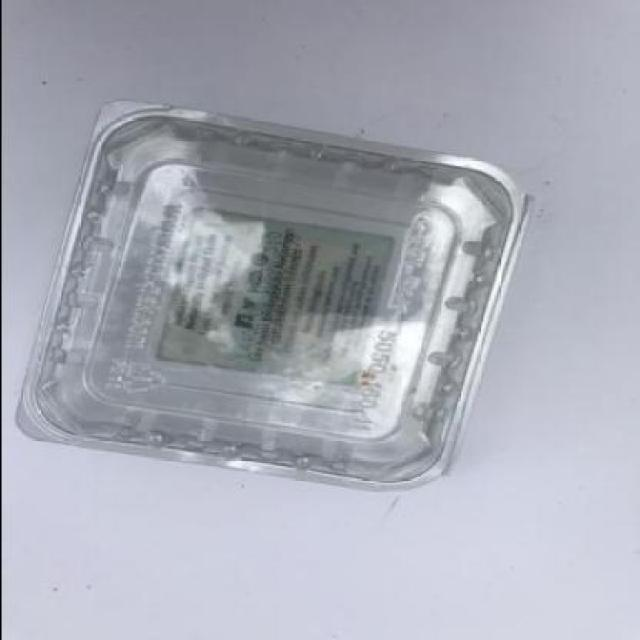PLASTIC: (12, 101, 530, 494)
